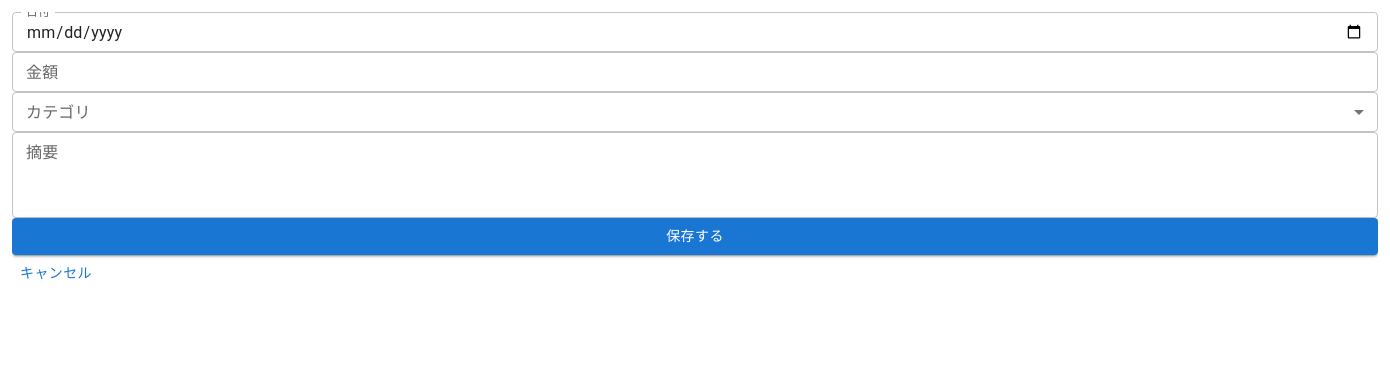
Test: ItemForm › ITM-FE-030: 金額に -100 を入力すると「正の金額を入力してください」エラーが表示される
Step 1. Type "-100" into the number field labelled "金額" → (695, 72), box top-left (12, 52), bottom-right (1378, 92)
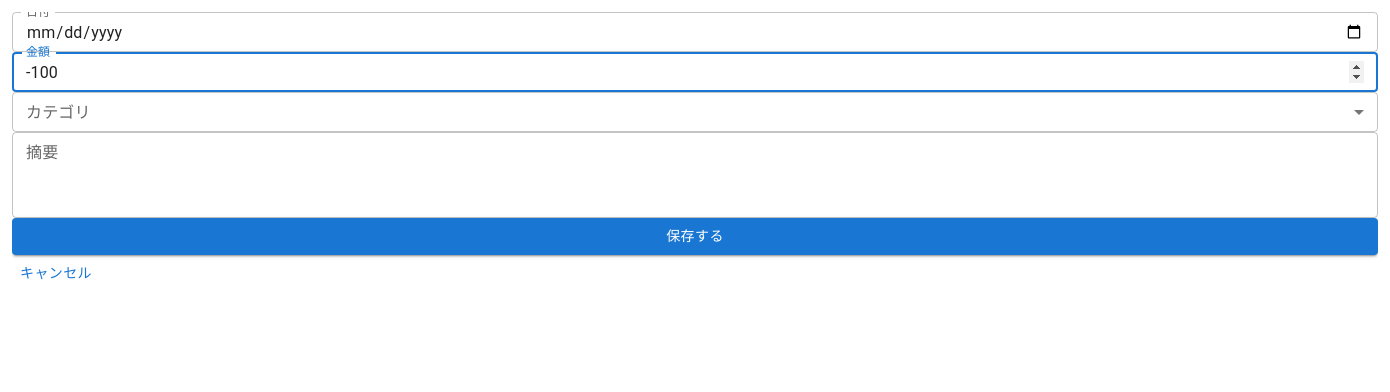
Step 2. Click the button "保存する" → (695, 236), box top-left (12, 218), bottom-right (1378, 254)
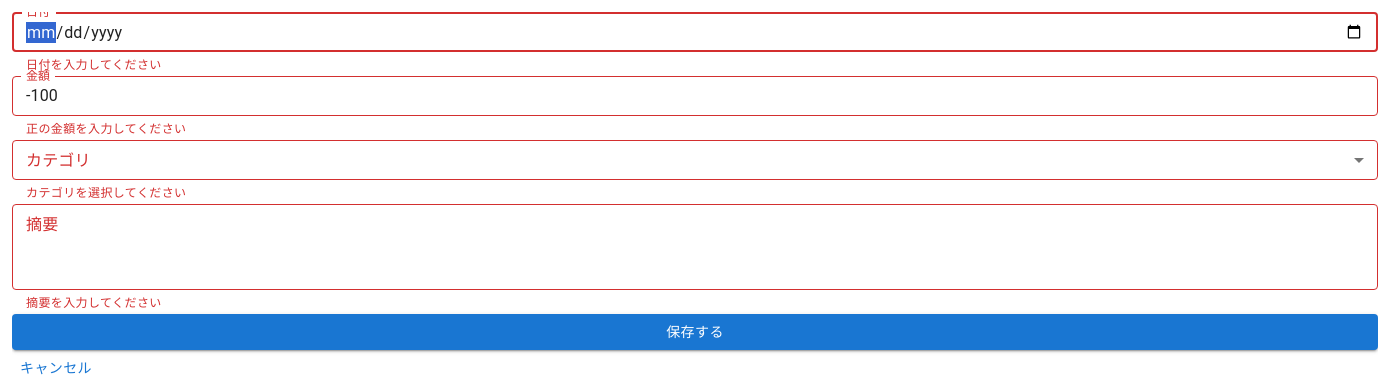
Check: the text "正の金額を入力してください" is shown, box top-left (26, 122), bottom-right (186, 136)
